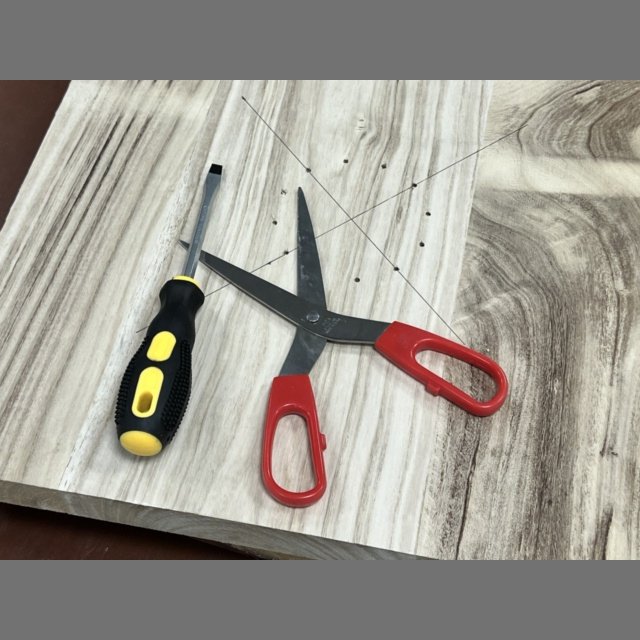scissor: (201, 190, 508, 507)
screwdriver: (115, 164, 222, 456)
